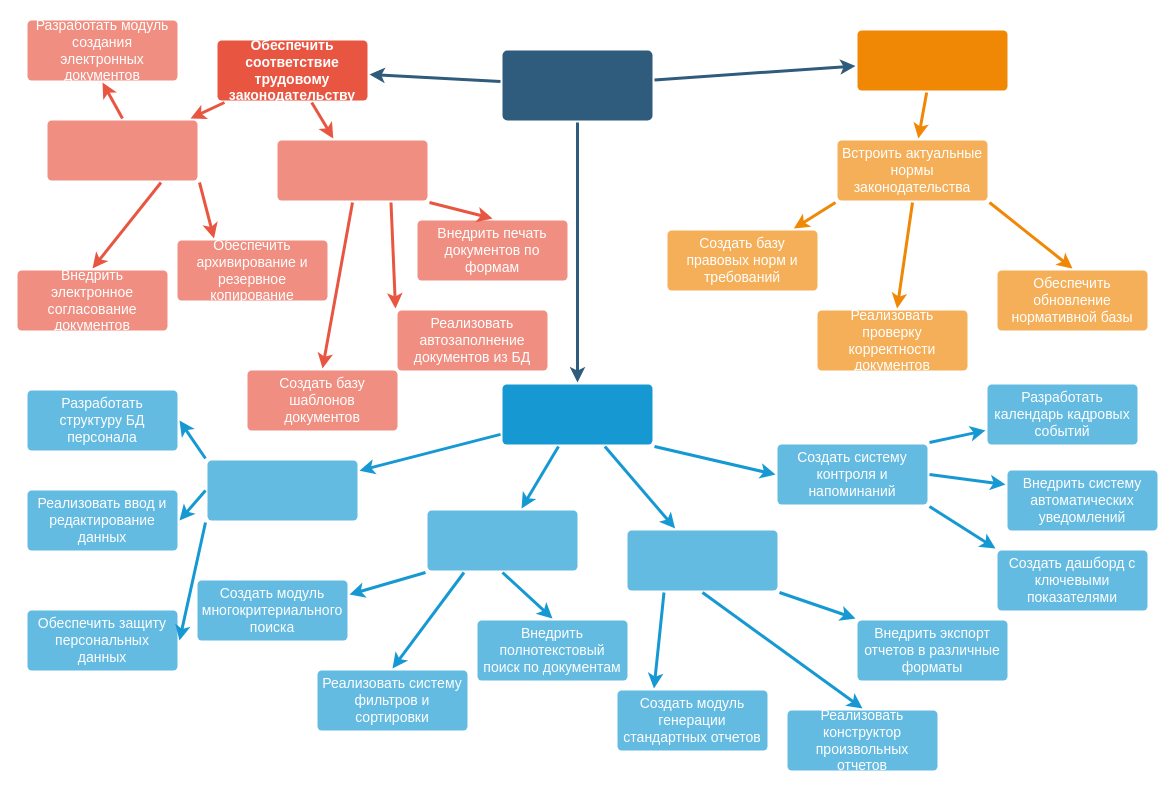
This 1174x791 diagram has some shape labels left out. Each missing label, with the box of its shape:
Автоматизировать деятельность отдела кадров: (502, 50, 652, 120)
Автоматизировать формирование кадровых документов: (277, 140, 427, 200)
Автоматизировать формирование отчетности: (627, 530, 777, 590)
Внедрить систему быстрого поиска информации: (427, 510, 577, 570)
Оптимизировать процессы документооборота: (857, 30, 1007, 90)
Повысить качество и скорость обработки информации: (502, 384, 652, 444)
Создать централизованную БД сотрудников: (207, 460, 357, 520)
Создать электронную систему документооборота: (47, 120, 197, 180)
